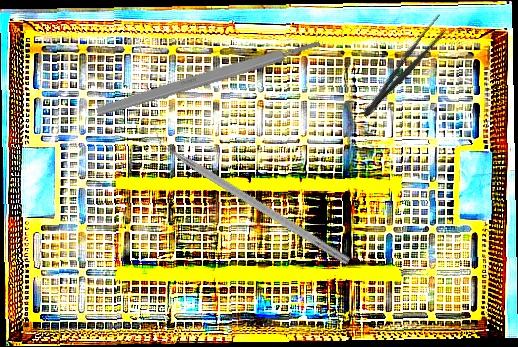Chopper: (144, 121, 358, 266)
Dressing Forceps: (357, 11, 453, 124)
Scalpel Handle: (95, 37, 322, 119)
